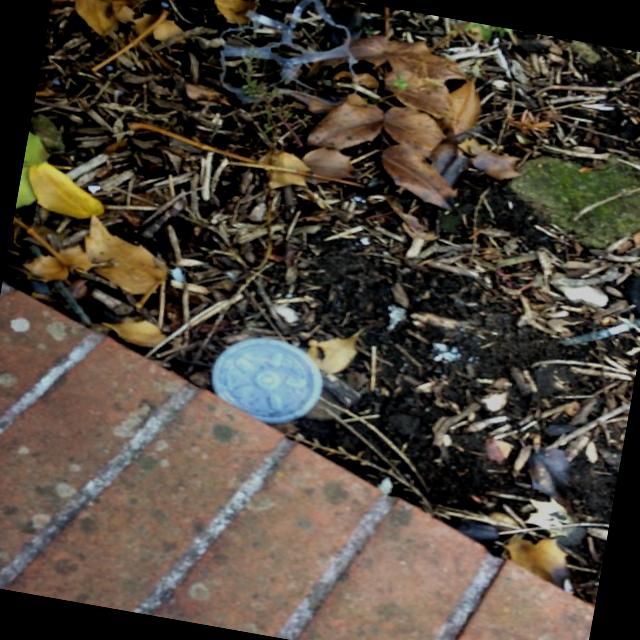Recycle: (206, 330, 328, 430)
